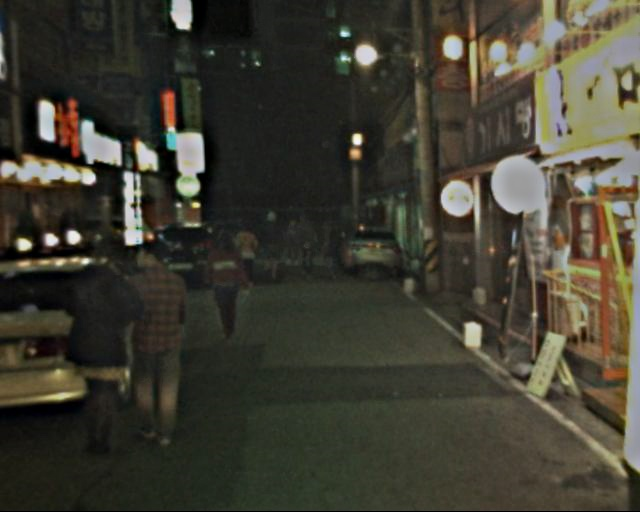person: (121, 233, 198, 456), (60, 231, 130, 461), (205, 222, 253, 347), (230, 216, 264, 291), (255, 206, 286, 285), (293, 211, 317, 283), (318, 219, 343, 285)
